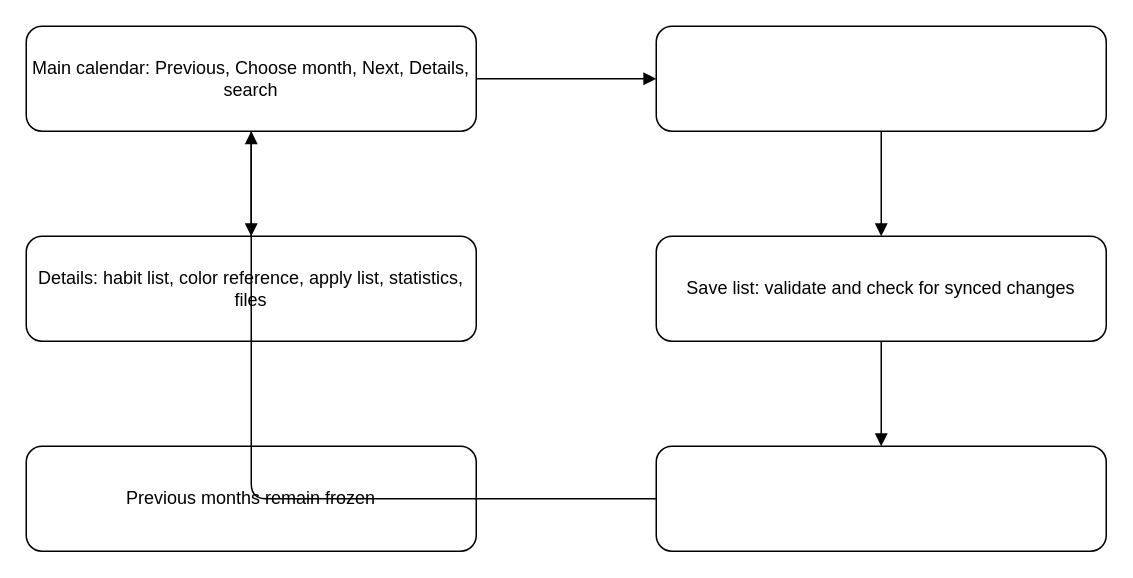
Some shapes in this 1133 by 578 pixel diagram are drawn without their labels. The centre of each missing label's shape, as x and y in pixels:
"Current-month Yes/No confirmation" belongs at (880,498).
"Habit list editor: Y/N, hex code, color chooser" belongs at (880,78).
